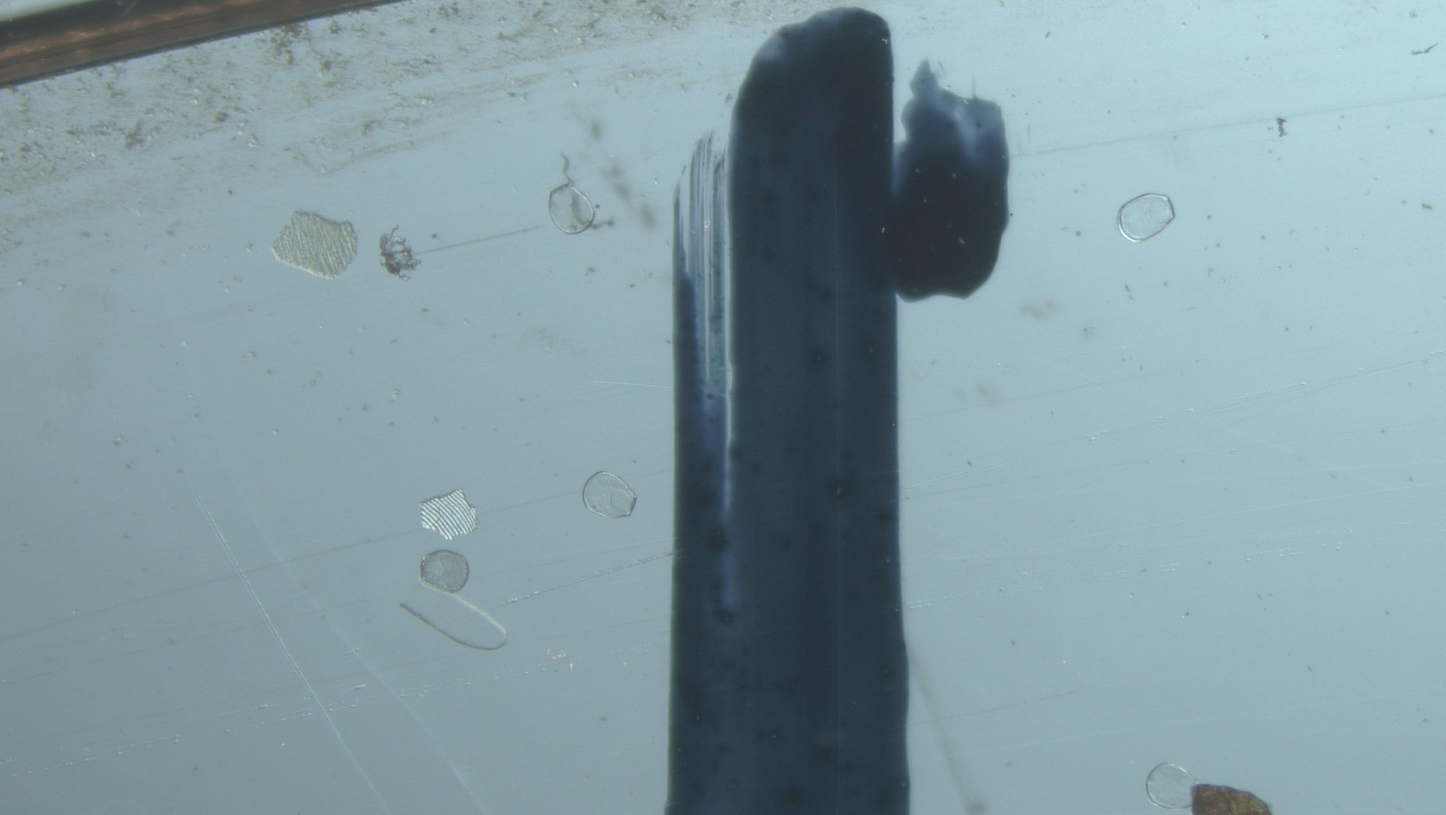dead: (1118, 193, 1175, 242), (1146, 763, 1199, 815), (582, 471, 637, 519), (549, 182, 596, 234), (421, 550, 470, 594)
